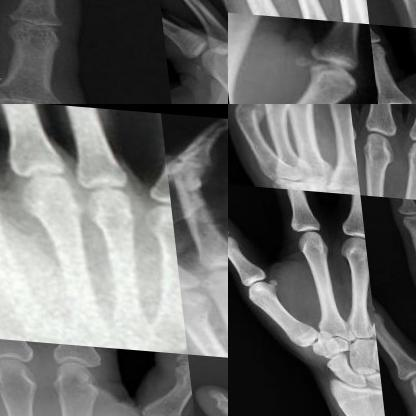fracture: (228, 104, 270, 135), (192, 335, 227, 354), (349, 315, 369, 339)
